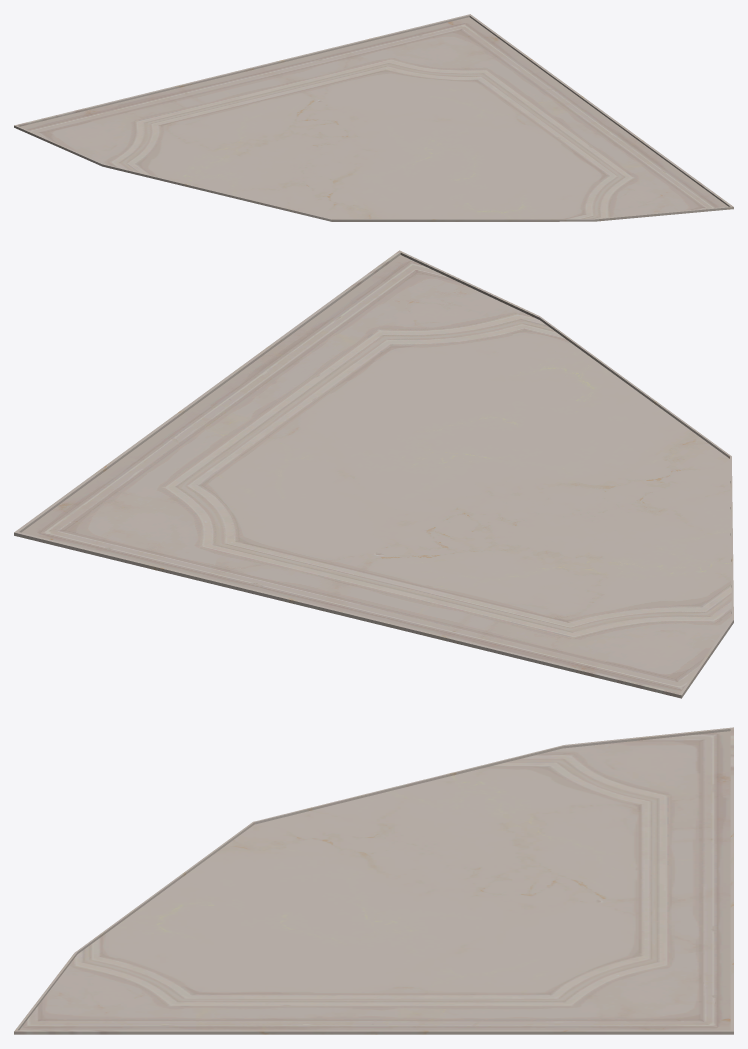
File: Homeworld_Interior_Fd_Room_Ceiling_02_L_Vo.fbx
3 renders of one model, top to bottom at view 1: azimuth 30°, elevation 25°; view 2: azimuth 150°, elevation 25°; view 3: azimuth 270°, elevation 25°, orthographic. The views are drawn at different scales.
Parts seen in each view (by area): view 1: Homeworld_Interior_Fd_Room_Ceiling_02_L_Vo; view 2: Homeworld_Interior_Fd_Room_Ceiling_02_L_Vo; view 3: Homeworld_Interior_Fd_Room_Ceiling_02_L_Vo.
Boxes of the visible parts, box(x1,y1,x2,y2) form: Homeworld_Interior_Fd_Room_Ceiling_02_L_Vo: box(14, 14, 733, 221); Homeworld_Interior_Fd_Room_Ceiling_02_L_Vo: box(14, 250, 733, 698); Homeworld_Interior_Fd_Room_Ceiling_02_L_Vo: box(14, 727, 733, 1034).
Size of the model in its own units: 5 by 0.0228 by 5.
